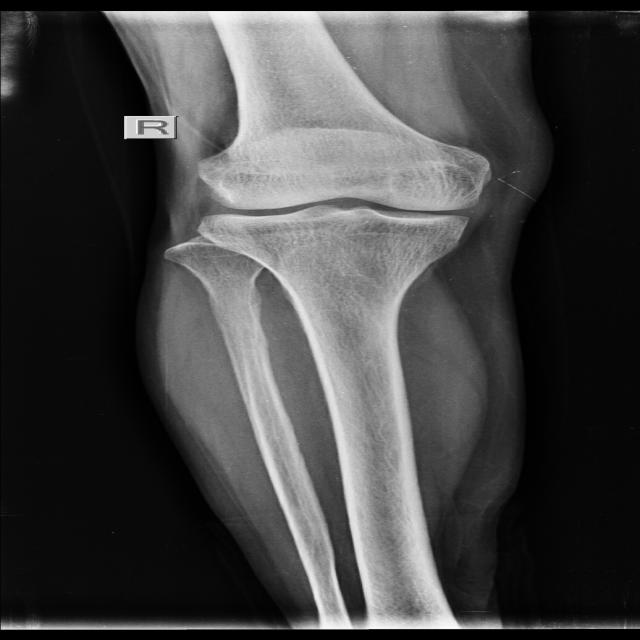osteo: (189, 141, 496, 256)
